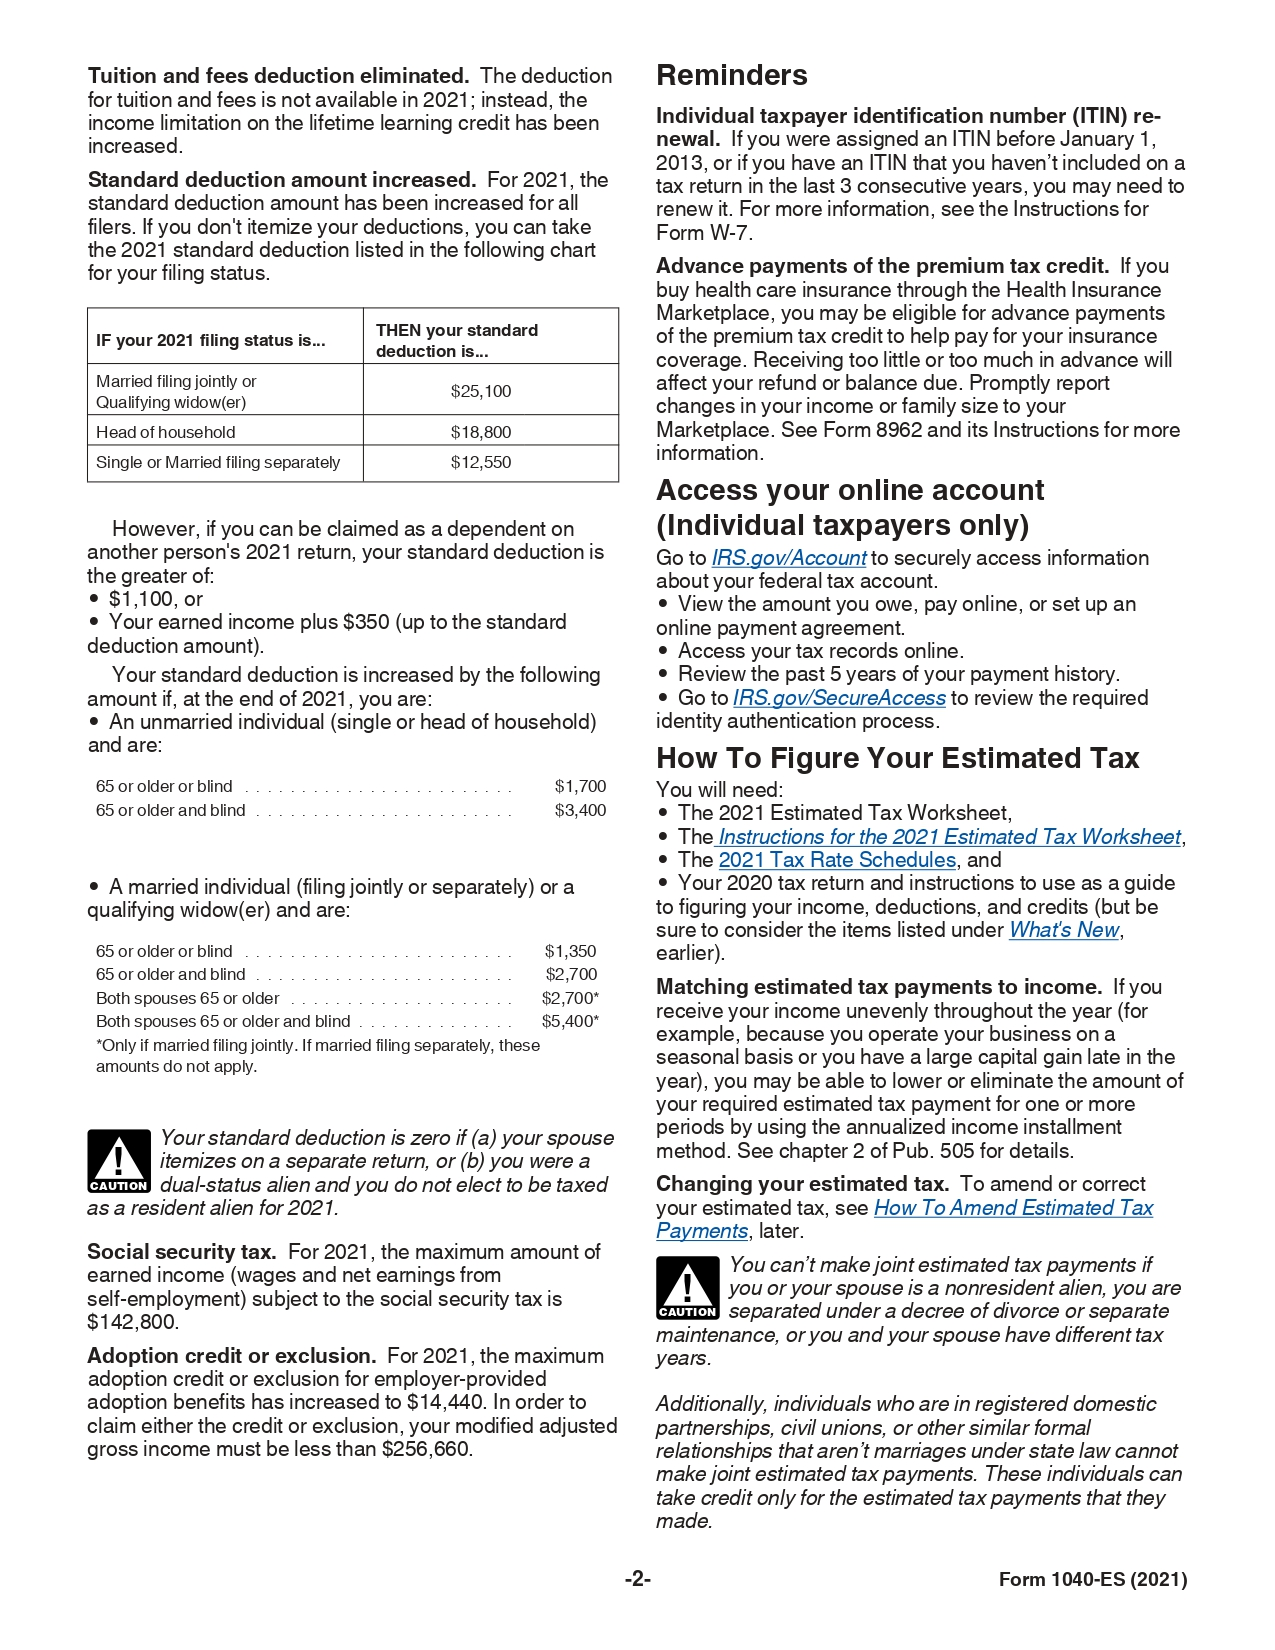table: (78, 300, 627, 496)
